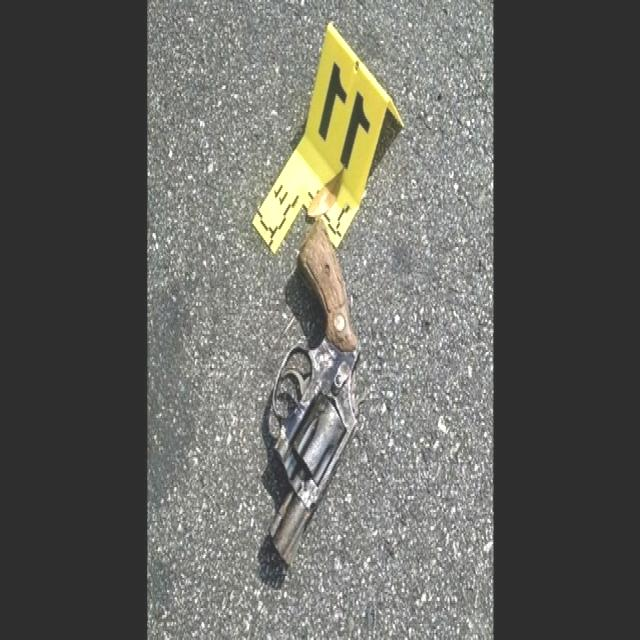pistol: (250, 213, 380, 576)
